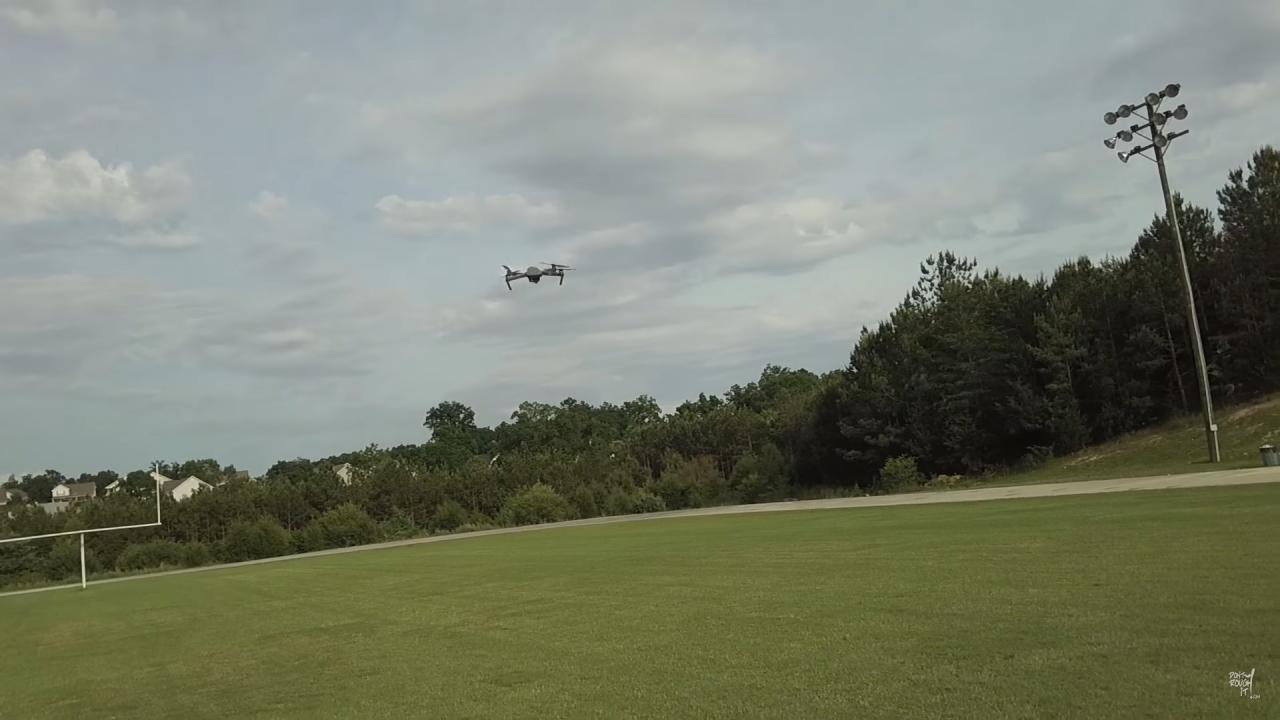Drone: (490, 255, 582, 299)
